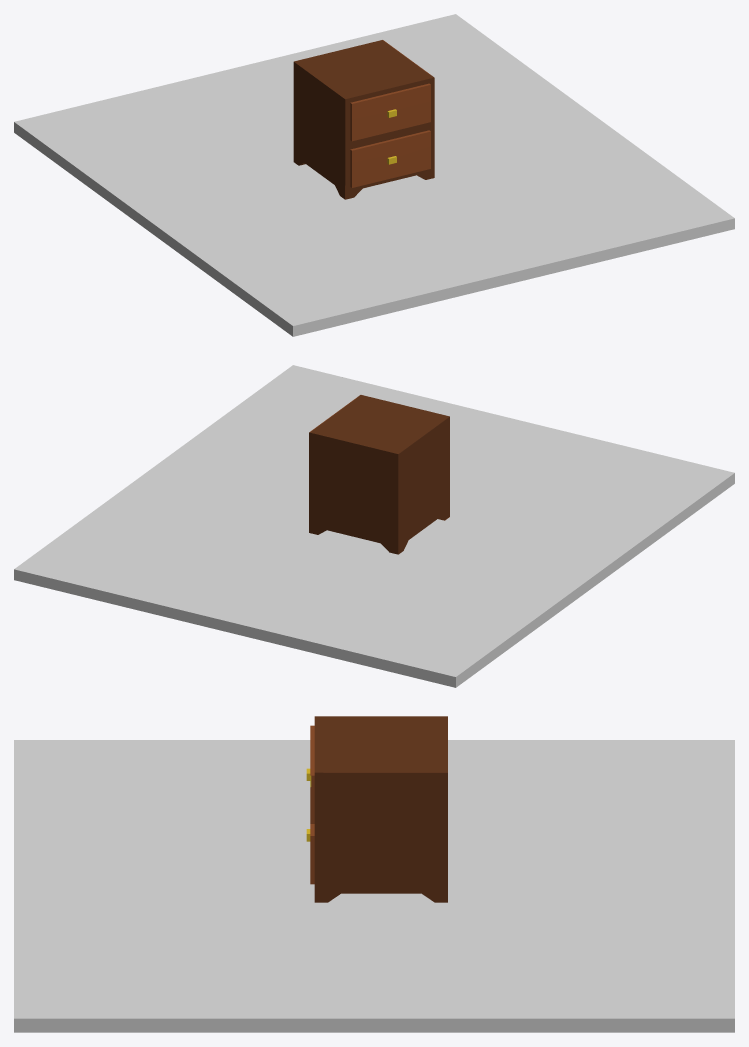
The picture shows the model from 3 angles, top to bottom: view 1: azimuth 30°, elevation 25°; view 2: azimuth 150°, elevation 25°; view 3: azimuth 270°, elevation 25°; orthographic projection. The views are drawn at different scales.
Parts seen in each view (by area): view 1: Ground, Drawer; view 2: Ground, Drawer; view 3: Ground, Drawer.
Boxes of the visible parts, left/top/right/bottom form: Ground: left=14, top=14, right=734, bottom=336; Drawer: left=293, top=40, right=434, bottom=199; Ground: left=14, top=365, right=734, bottom=687; Drawer: left=309, top=395, right=449, bottom=554; Ground: left=14, top=740, right=734, bottom=1032; Drawer: left=306, top=716, right=447, bottom=902.
Size of the model in its own units: 989 by 238 by 1082.
Materials: 2 (1 with a texture image).
